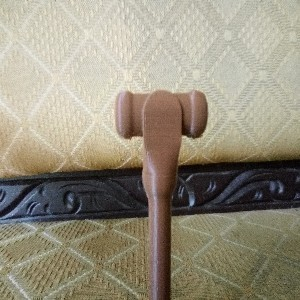palu: (114, 89, 209, 300)
